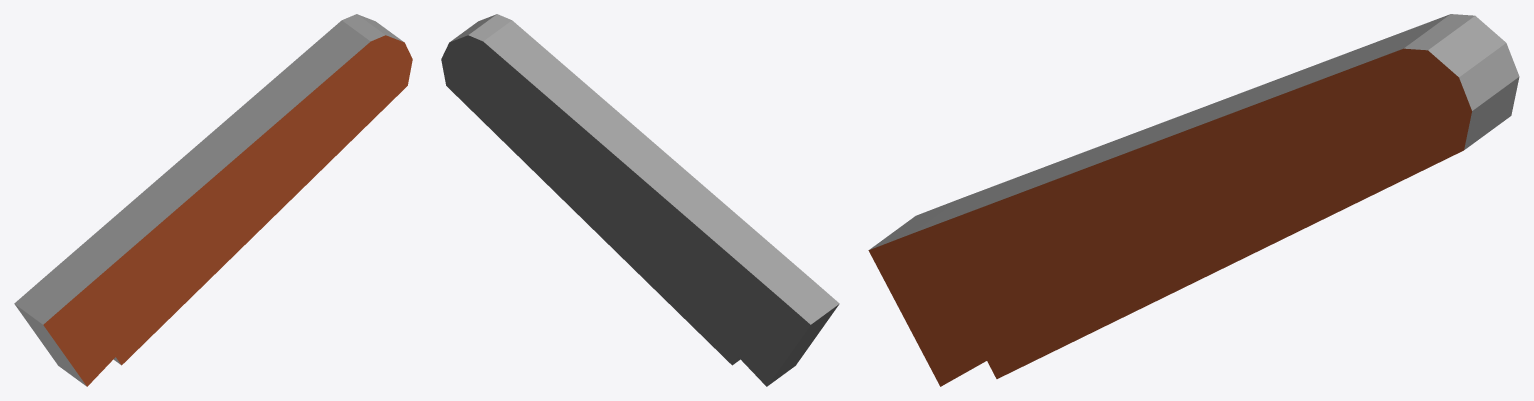
Rendered from construction_0472_assumed_A_Casa_h6m.obj.
3 views of the same model, side by side, from view 1: azimuth 30°, elevation 25°; view 2: azimuth 150°, elevation 25°; view 3: azimuth 330°, elevation 25° (orthographic). The views are drawn at different scales.
Visible parts, largest first — view 1: construction_0472_assumed_A_Casa; view 2: construction_0472_assumed_A_Casa; view 3: construction_0472_assumed_A_Casa.
Boxes of the visible parts, x1=… form: construction_0472_assumed_A_Casa: x1=14, y1=14, x2=412, y2=386; construction_0472_assumed_A_Casa: x1=441, y1=14, x2=839, y2=386; construction_0472_assumed_A_Casa: x1=868, y1=14, x2=1519, y2=386.
Size of the model in its own units: 44.16 by 31.84 by 6.
